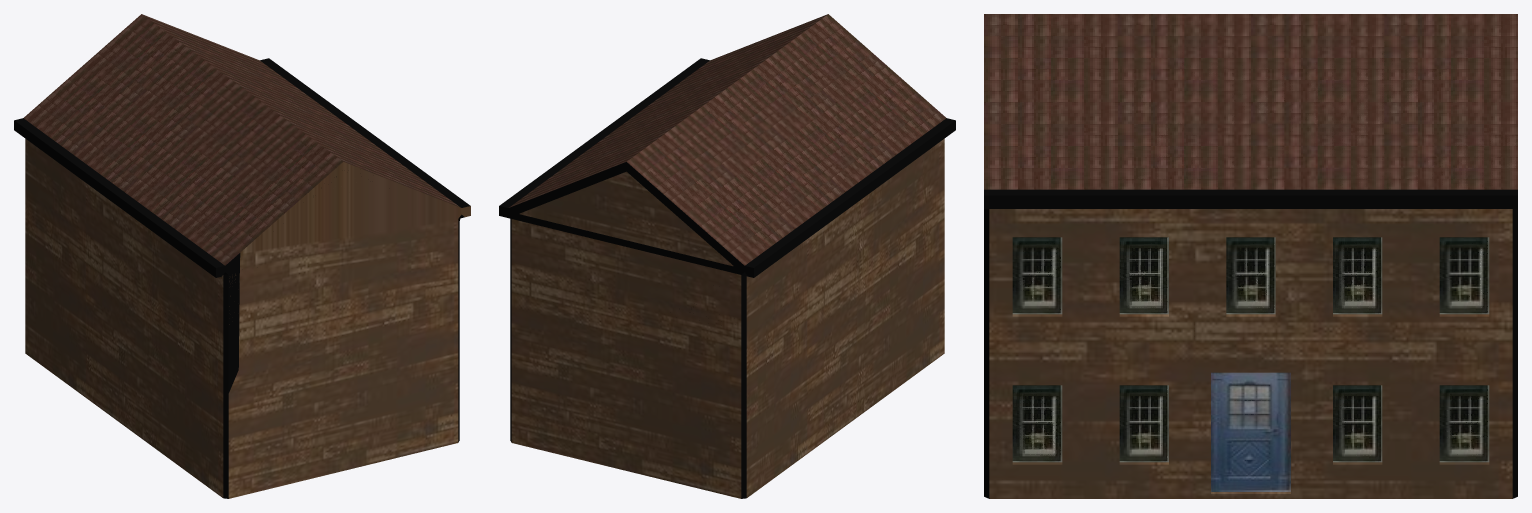
Rendered from House.fbx.
3 views of the same model, side by side, from view 1: azimuth 30°, elevation 25°; view 2: azimuth 150°, elevation 25°; view 3: azimuth 270°, elevation 25° (orthographic). The views are drawn at different scales.
Parts seen in each view (by area): view 1: House, House_cell.007, House_cell.005, House_cell.011, House_cell.010, House_cell.002, House_cell.001, House_cell.009, House_cell.008, House_cell, House_cell.003; view 2: House, House_cell.011, House_cell.010, House_cell.001, House_cell.009, House_cell.005, House_cell.008, House_cell, House_cell.003; view 3: House, House_cell.011, House_cell.002, House_cell.003, House_cell, House_cell.004, House_cell.008, House_cell.006, House_cell.007, House_cell.005.
Boxes of the visible parts, <box> form: House: <box>25,19,470,498</box>; House_cell.007: <box>239,152,470,369</box>; House_cell.005: <box>172,359,459,498</box>; House_cell.011: <box>122,18,348,193</box>; House_cell.010: <box>64,167,249,460</box>; House_cell.002: <box>211,289,459,422</box>; House_cell.001: <box>14,19,138,212</box>; House_cell.009: <box>25,190,145,441</box>; House_cell.008: <box>223,46,328,104</box>; House_cell: <box>135,14,276,85</box>; House_cell.003: <box>305,100,380,142</box>; House: <box>499,14,955,498</box>; House_cell.011: <box>596,41,859,184</box>; House_cell.010: <box>764,120,955,409</box>; House_cell.001: <box>633,164,794,329</box>; House_cell.009: <box>618,300,867,497</box>; House_cell.005: <box>894,275,944,389</box>; House_cell.008: <box>500,151,600,218</box>; House_cell: <box>546,152,635,193</box>; House_cell.003: <box>560,116,646,163</box>; House: <box>984,14,1517,498</box>; House_cell.011: <box>1083,14,1503,156</box>; House_cell.002: <box>984,246,1217,498</box>; House_cell.003: <box>1221,147,1401,498</box>; House_cell: <box>1370,14,1517,299</box>; House_cell.004: <box>1283,264,1517,498</box>; House_cell.008: <box>1344,135,1517,209</box>; House_cell.006: <box>1083,124,1222,498</box>; House_cell.007: <box>984,183,1126,298</box>; House_cell.005: <box>984,387,1127,498</box>.
Size of the model in its own units: 407 by 472 by 559.
